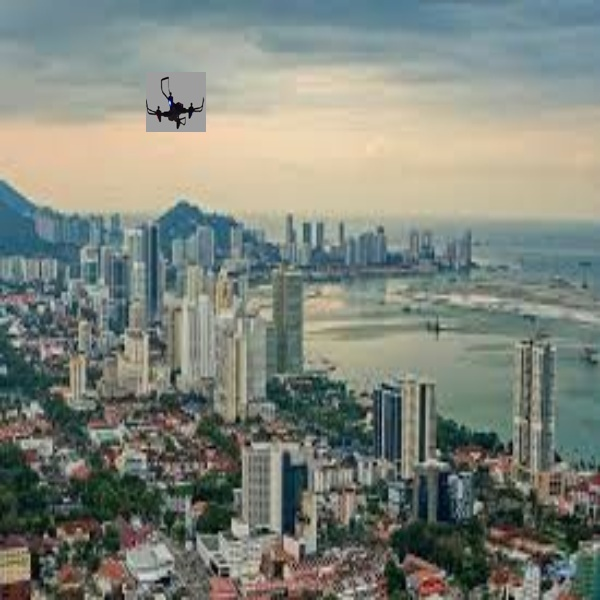drone: (145, 71, 207, 130)
